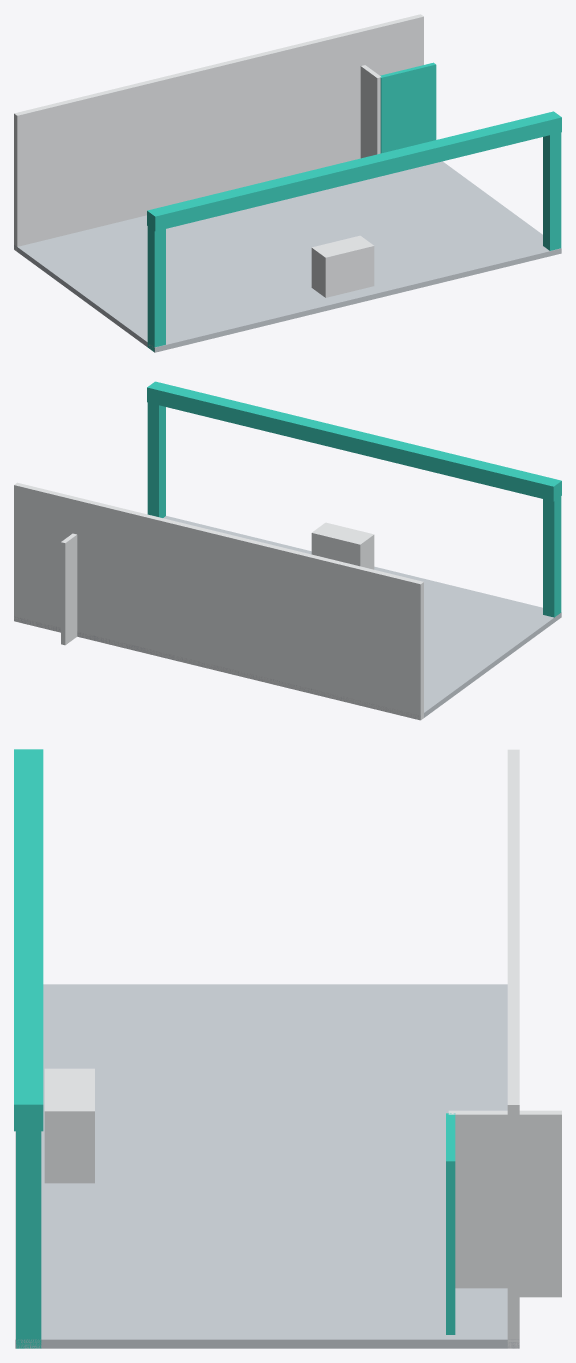
3 views of the same model, one above another, from view 1: azimuth 30°, elevation 25°; view 2: azimuth 150°, elevation 25°; view 3: azimuth 270°, elevation 25° (orthographic). The views are drawn at different scales.
Visible parts, largest first — view 1: Exhibition Booth Concept; view 2: Exhibition Booth Concept; view 3: Exhibition Booth Concept.
Boxes of the visible parts, x1,y1,x2,y2 form: Exhibition Booth Concept: (14, 14, 561, 352); Exhibition Booth Concept: (14, 381, 561, 720); Exhibition Booth Concept: (14, 749, 561, 1348).
Size of the model in its own units: 10 by 3.2 by 6.52.
